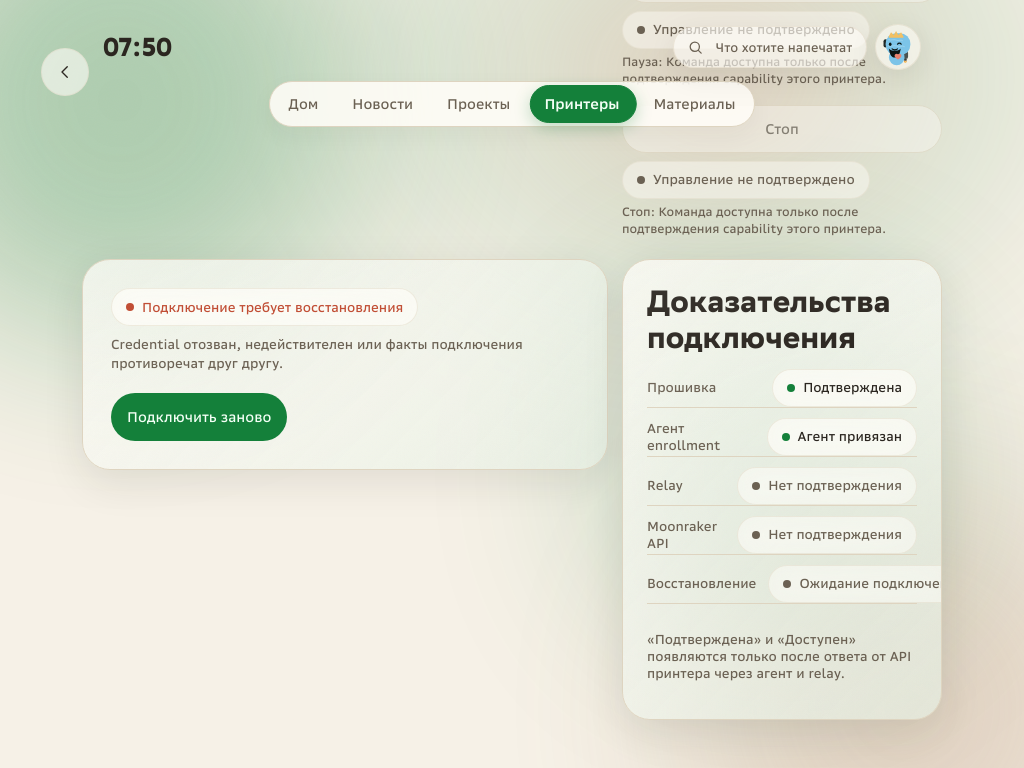
Test: MF-1665: матрица шести состояний подключения › recovery-required: выдаёт новый enroll-код и не открывает опасные команды
The image size is (1024, 768).
(page scrolled)
Click the button "Подключить заново": (199, 417) left=111, top=393, right=287, bottom=441
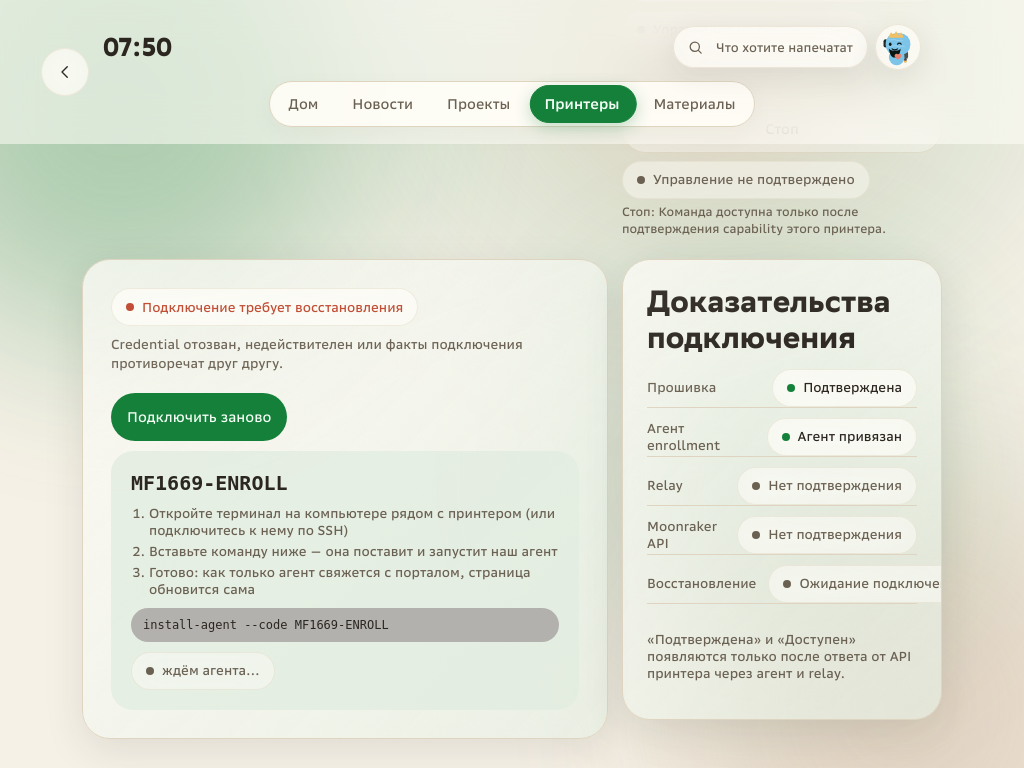
Expected: the button "Стоп" is disabled, left=622, top=105, right=942, bottom=153
Now the text "MF1669-ENROLL" is shown, box left=131, top=471, right=288, bottom=495
